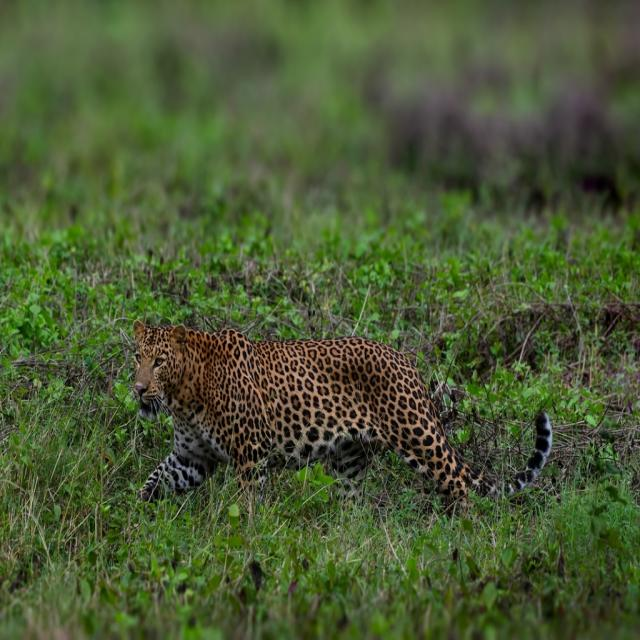Leopard: (132, 320, 552, 507)
